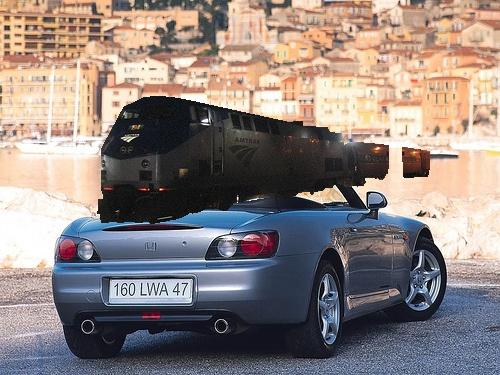tampered: (98, 97, 430, 224)
